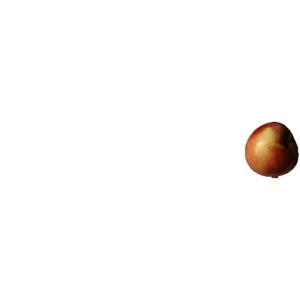maçã braeburn: (245, 119, 299, 179)
